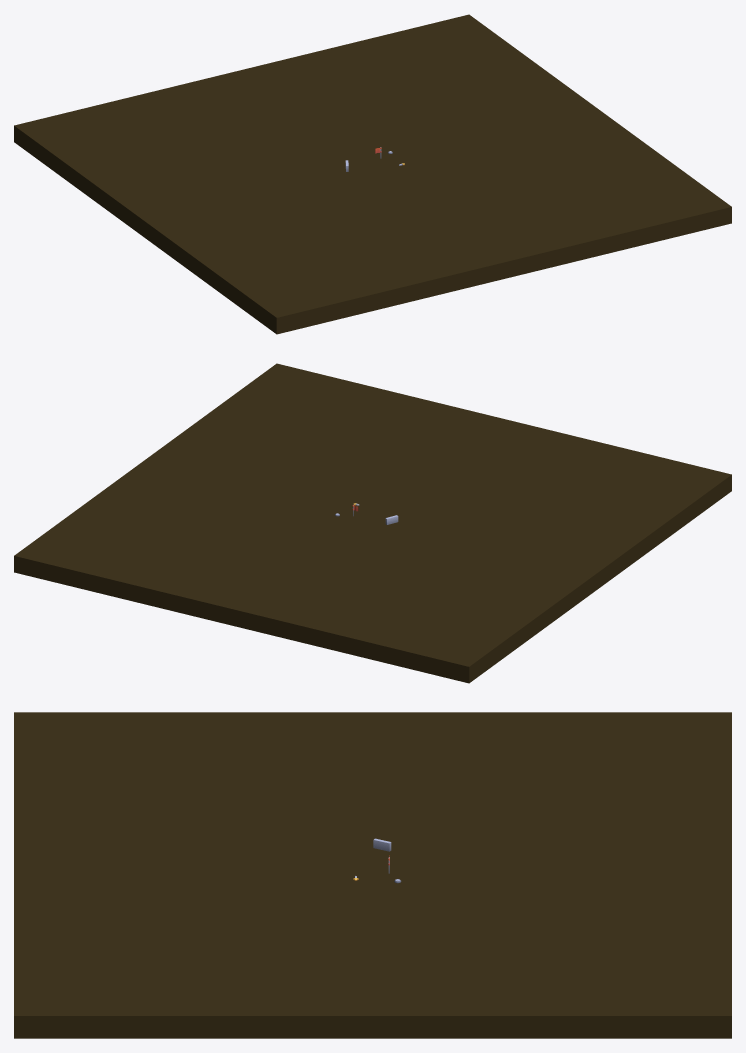
File: feature_garden.glb
3 views of the same model, one above another, from view 1: azimuth 30°, elevation 25°; view 2: azimuth 150°, elevation 25°; view 3: azimuth 270°, elevation 25° (orthographic). The views are drawn at different scales.
Parts seen in each view (by area): view 1: Plane; view 2: Plane; view 3: Plane.
Part boxes in pixels (x1=…): Plane: x1=14, y1=14, x2=731, y2=334; Plane: x1=14, y1=363, x2=731, y2=683; Plane: x1=14, y1=712, x2=731, y2=1038.
Size of the model in its own units: 78.73 by 4.65 by 78.73.
Materials: 5 (4 with a texture image).
